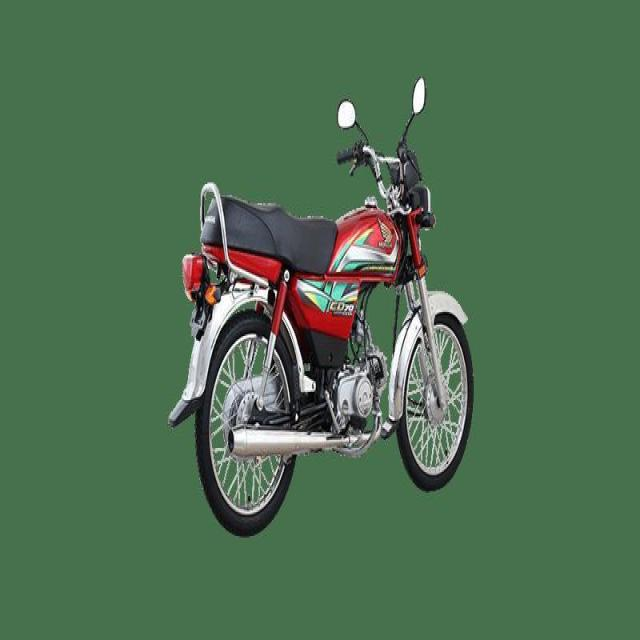motorcycle: (166, 45, 534, 558)
